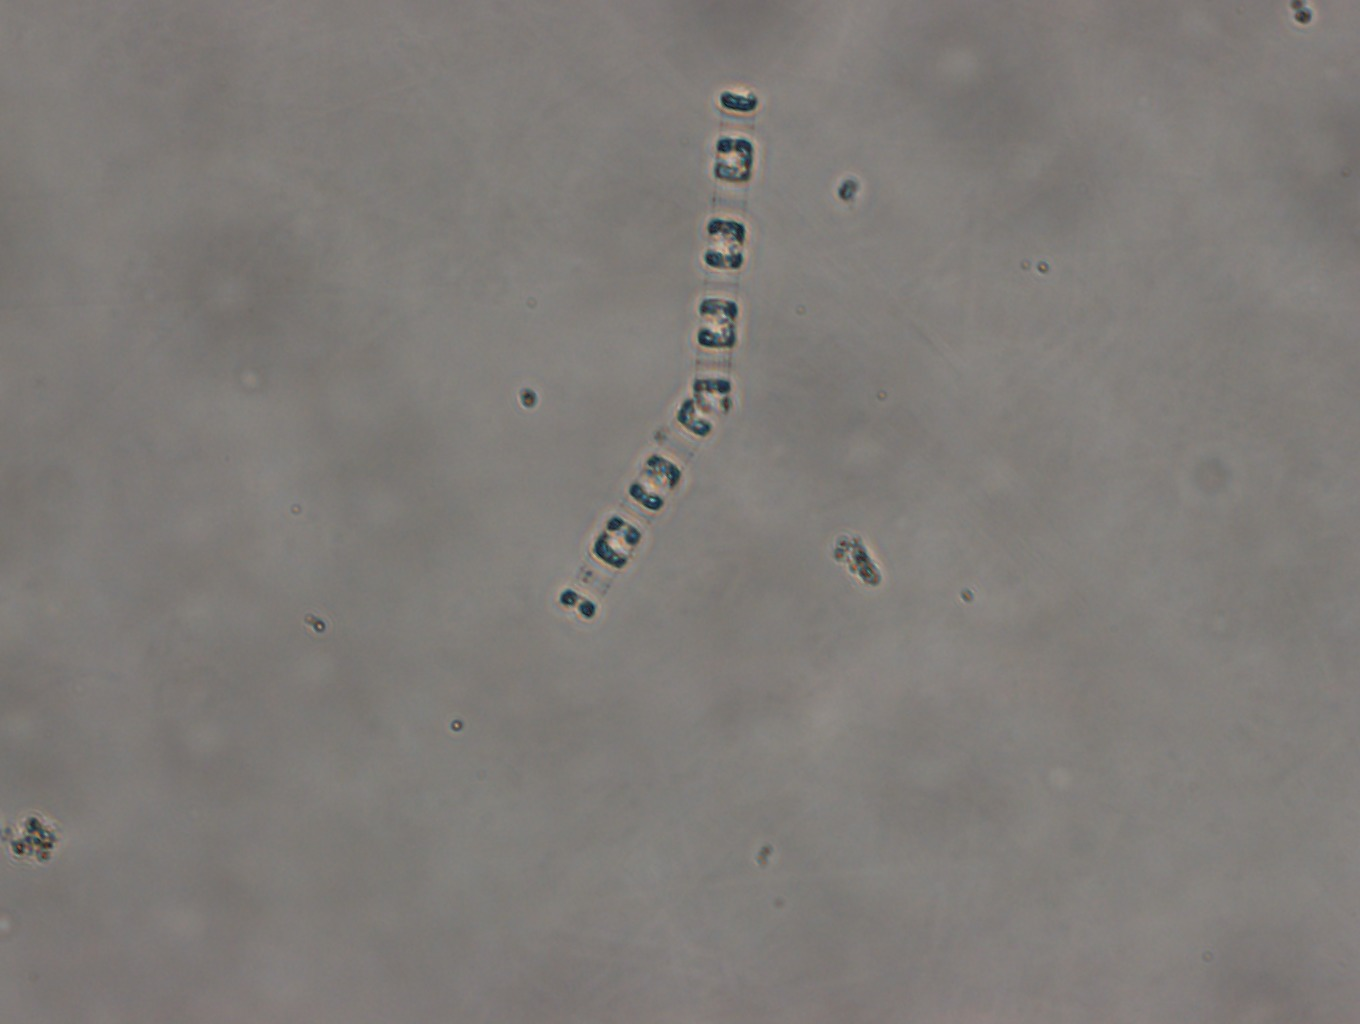skeletonema: (552, 84, 760, 628)
